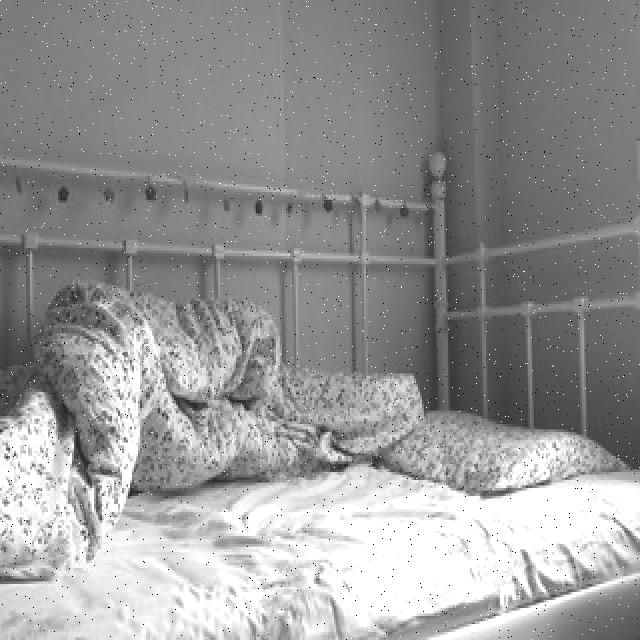bed: (2, 179, 640, 602)
